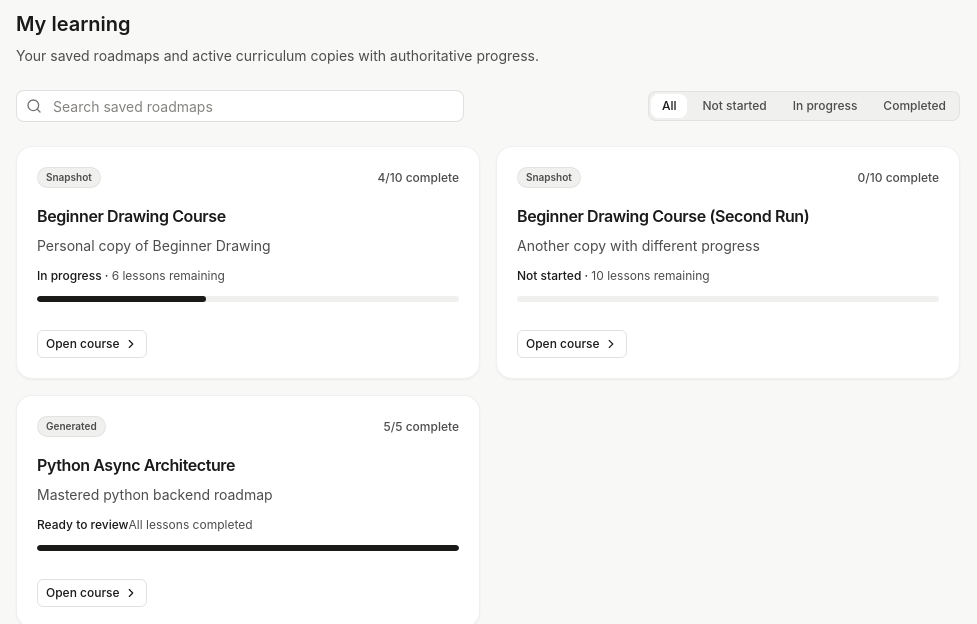
Test case: StudioMyLearningView (LSI-006) › filters roadmaps by search query
The image size is (977, 624).
Type "Async" into the field named "Search My learning" at (240, 106), box [16,90,464,122]
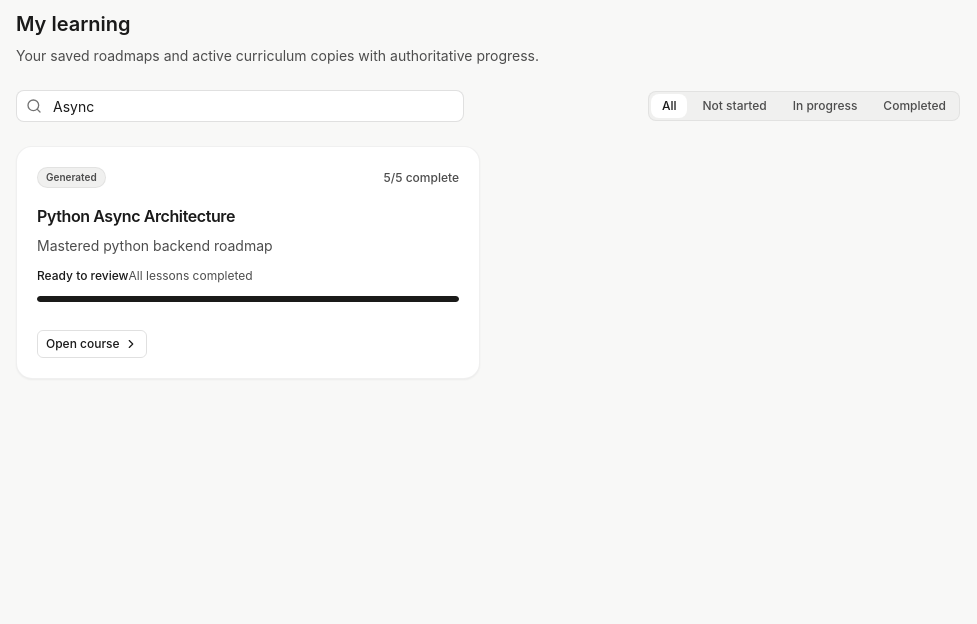
Check: the element with test id "workspace-curriculum-card-ws_completed" is shown, box [16,146,480,379]
Check: the element with test id "workspace-curriculum-card-ws_copy_1" is gone
Check: the element with test id "workspace-curriculum-card-ws_copy_2" is gone
